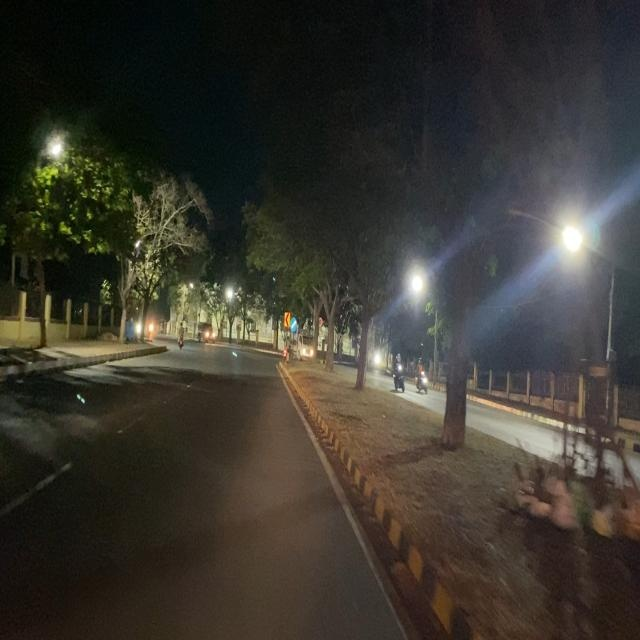bien_hieu_lenh: (290, 316, 298, 334)
